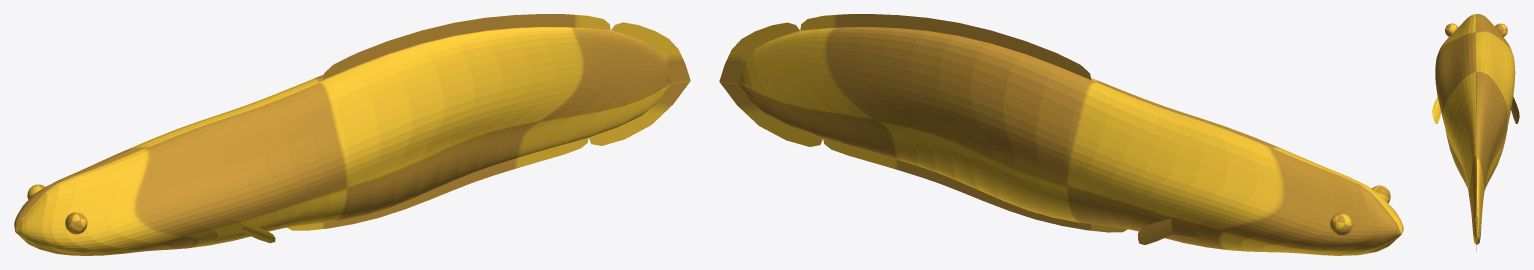
Rendered from fish_color.obj.
The picture shows the model from 3 angles, left to right: view 1: azimuth 30°, elevation 25°; view 2: azimuth 150°, elevation 25°; view 3: azimuth 270°, elevation 25°; orthographic projection. The views are drawn at different scales.
Parts seen in each view (by area): view 1: Sphere.006; view 2: Sphere.006; view 3: Sphere.006.
Part boxes in pixels (x1,y1,x2,y2): Sphere.006: [14, 14, 690, 255]; Sphere.006: [719, 14, 1403, 255]; Sphere.006: [1432, 14, 1519, 251].
Size of the model in its own units: 6.7 by 1.67 by 1.17.
Materials: 1 (1 with a texture image).
